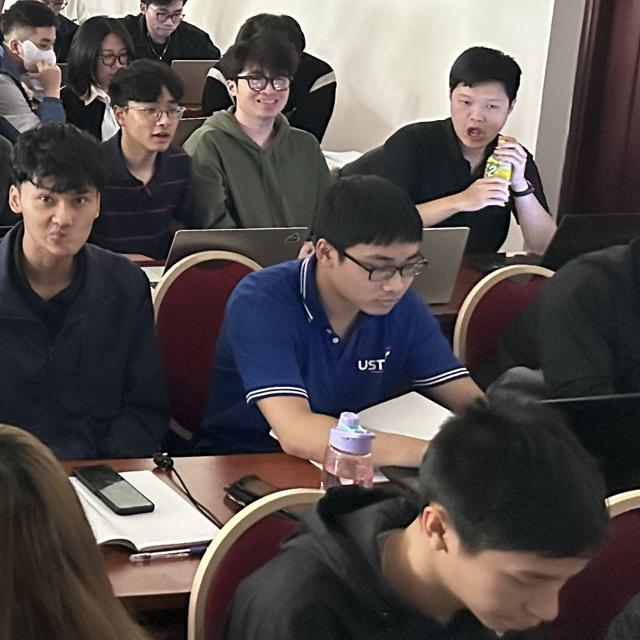Looking away: (428, 378, 604, 627), (317, 184, 424, 317), (442, 55, 514, 146), (118, 76, 182, 151), (3, 4, 60, 71), (85, 23, 129, 79), (138, 1, 190, 43)
Looking forward: (6, 128, 107, 258), (225, 48, 292, 118)
